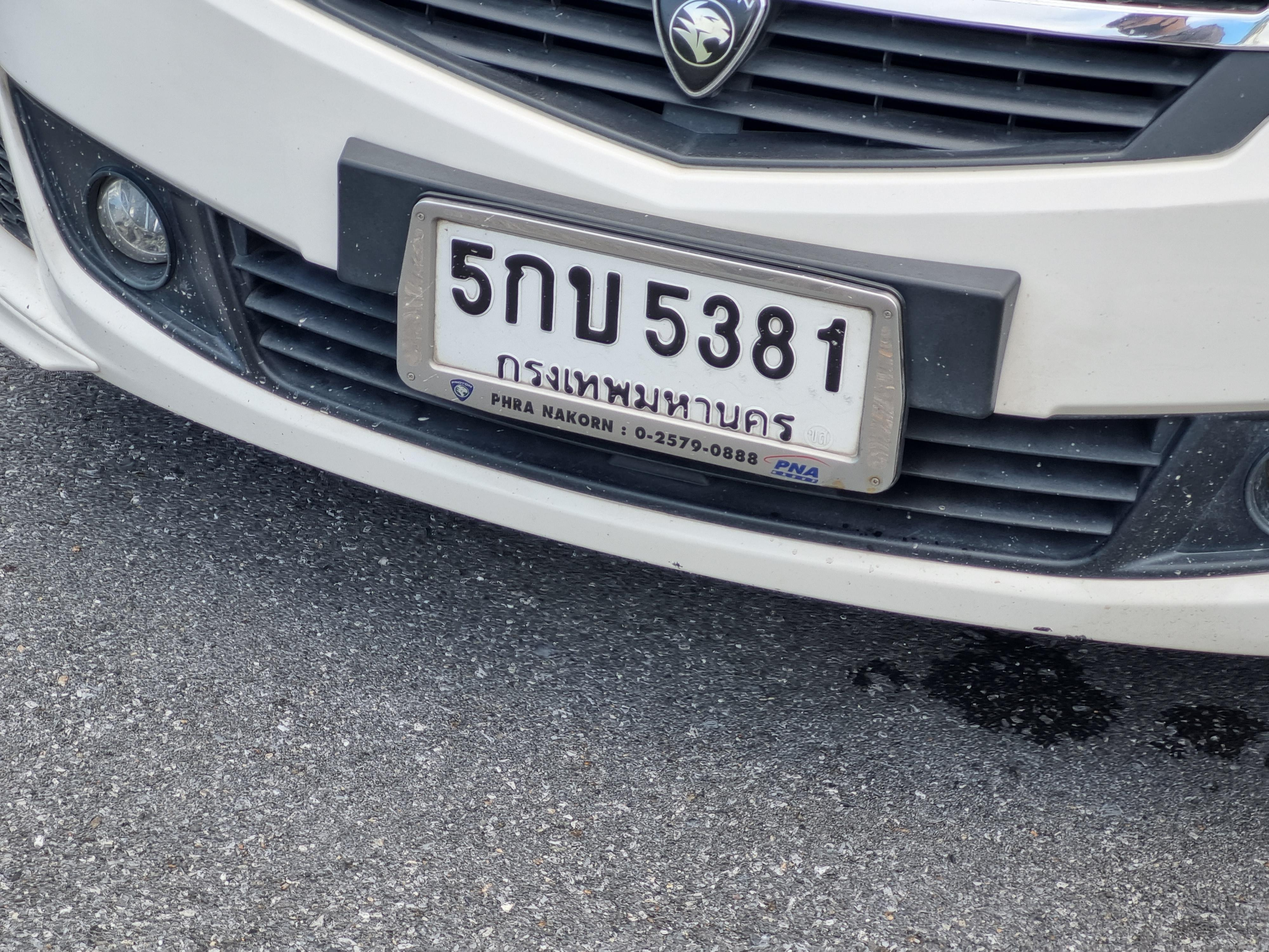license-plate: (391, 175, 916, 503)
